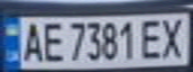1: (118, 18, 139, 61)
3: (84, 19, 103, 62)
7: (63, 19, 87, 62)
8: (100, 19, 121, 61)
A: (18, 19, 45, 63)
E: (136, 16, 166, 61), (39, 19, 66, 63)
X: (157, 15, 190, 60)
